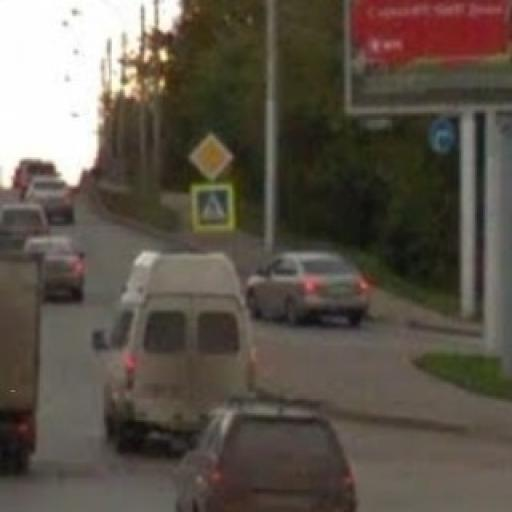traffic_sign: (187, 179, 243, 236), (187, 132, 238, 185)
